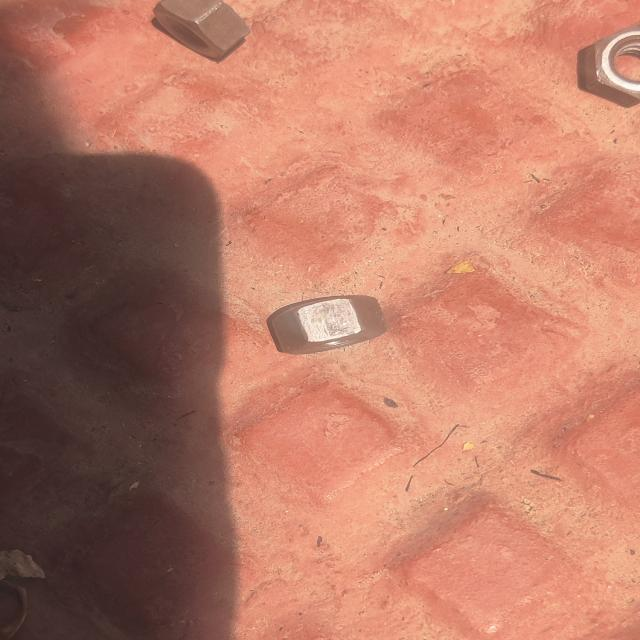disinfected nut: (267, 295, 387, 355), (153, 0, 250, 62), (577, 25, 640, 108)
